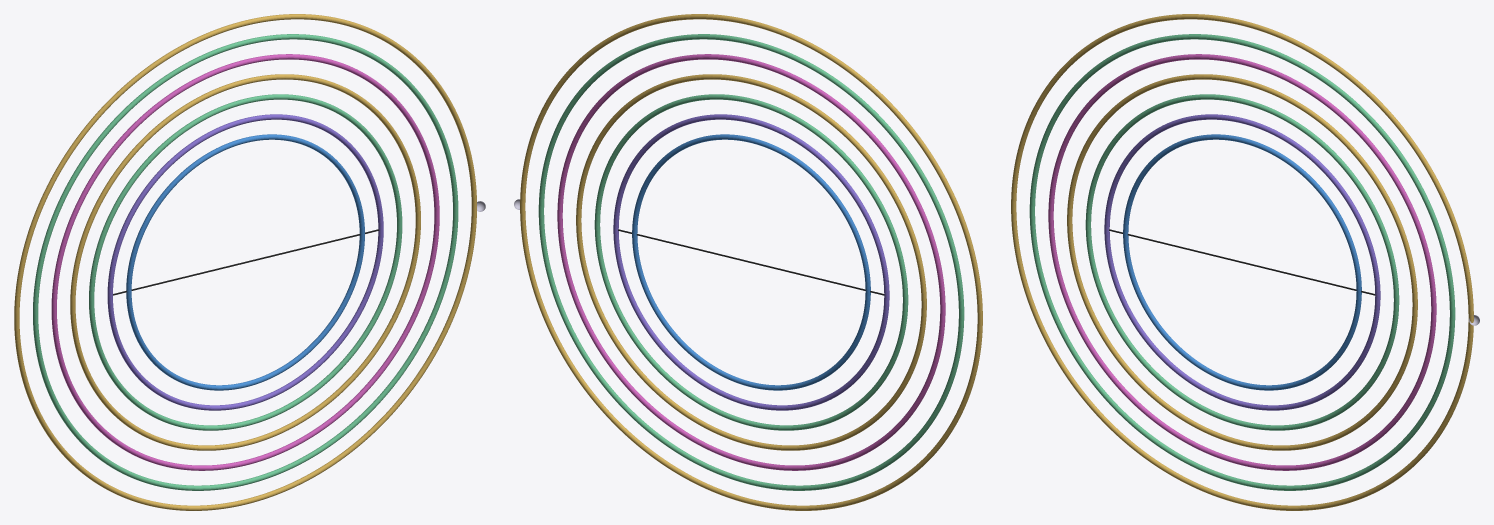
Rendered from Lotus_Drift_XV_SiriusPluto.glb.
3 renders of one model, left to right at view 1: azimuth 30°, elevation 25°; view 2: azimuth 150°, elevation 25°; view 3: azimuth 330°, elevation 25°, orthographic.
Visible parts, largest first — view 1: ring_7, ring_6, ring_5, ring_4, ring_3, ring_2, ring_1, seam_marker; view 2: ring_7, ring_6, ring_5, ring_4, ring_3, ring_2, ring_1, seam_marker; view 3: ring_7, ring_6, ring_5, ring_4, ring_3, ring_2, ring_1, seam_marker.
Part boxes in pixels (bbox=[...]): ring_7: bbox=[14, 14, 476, 510]; ring_6: bbox=[33, 34, 458, 490]; ring_5: bbox=[51, 54, 439, 470]; ring_4: bbox=[70, 74, 420, 450]; ring_3: bbox=[89, 94, 402, 430]; ring_2: bbox=[107, 114, 383, 410]; ring_1: bbox=[126, 134, 364, 390]; seam_marker: bbox=[113, 229, 379, 295]; ring_7: bbox=[520, 14, 982, 510]; ring_6: bbox=[538, 34, 964, 490]; ring_5: bbox=[557, 54, 945, 470]; ring_4: bbox=[576, 74, 926, 450]; ring_3: bbox=[594, 94, 908, 430]; ring_2: bbox=[613, 114, 889, 410]; ring_1: bbox=[632, 134, 870, 390]; seam_marker: bbox=[618, 229, 884, 295]; ring_7: bbox=[1011, 14, 1473, 510]; ring_6: bbox=[1029, 34, 1455, 490]; ring_5: bbox=[1048, 54, 1436, 470]; ring_4: bbox=[1067, 74, 1417, 450]; ring_3: bbox=[1085, 94, 1399, 430]; ring_2: bbox=[1104, 114, 1380, 410]; ring_1: bbox=[1123, 134, 1361, 390]; seam_marker: bbox=[1109, 229, 1375, 295].
Size of the model in its own units: 4.02 by 3.96 by 0.08.
